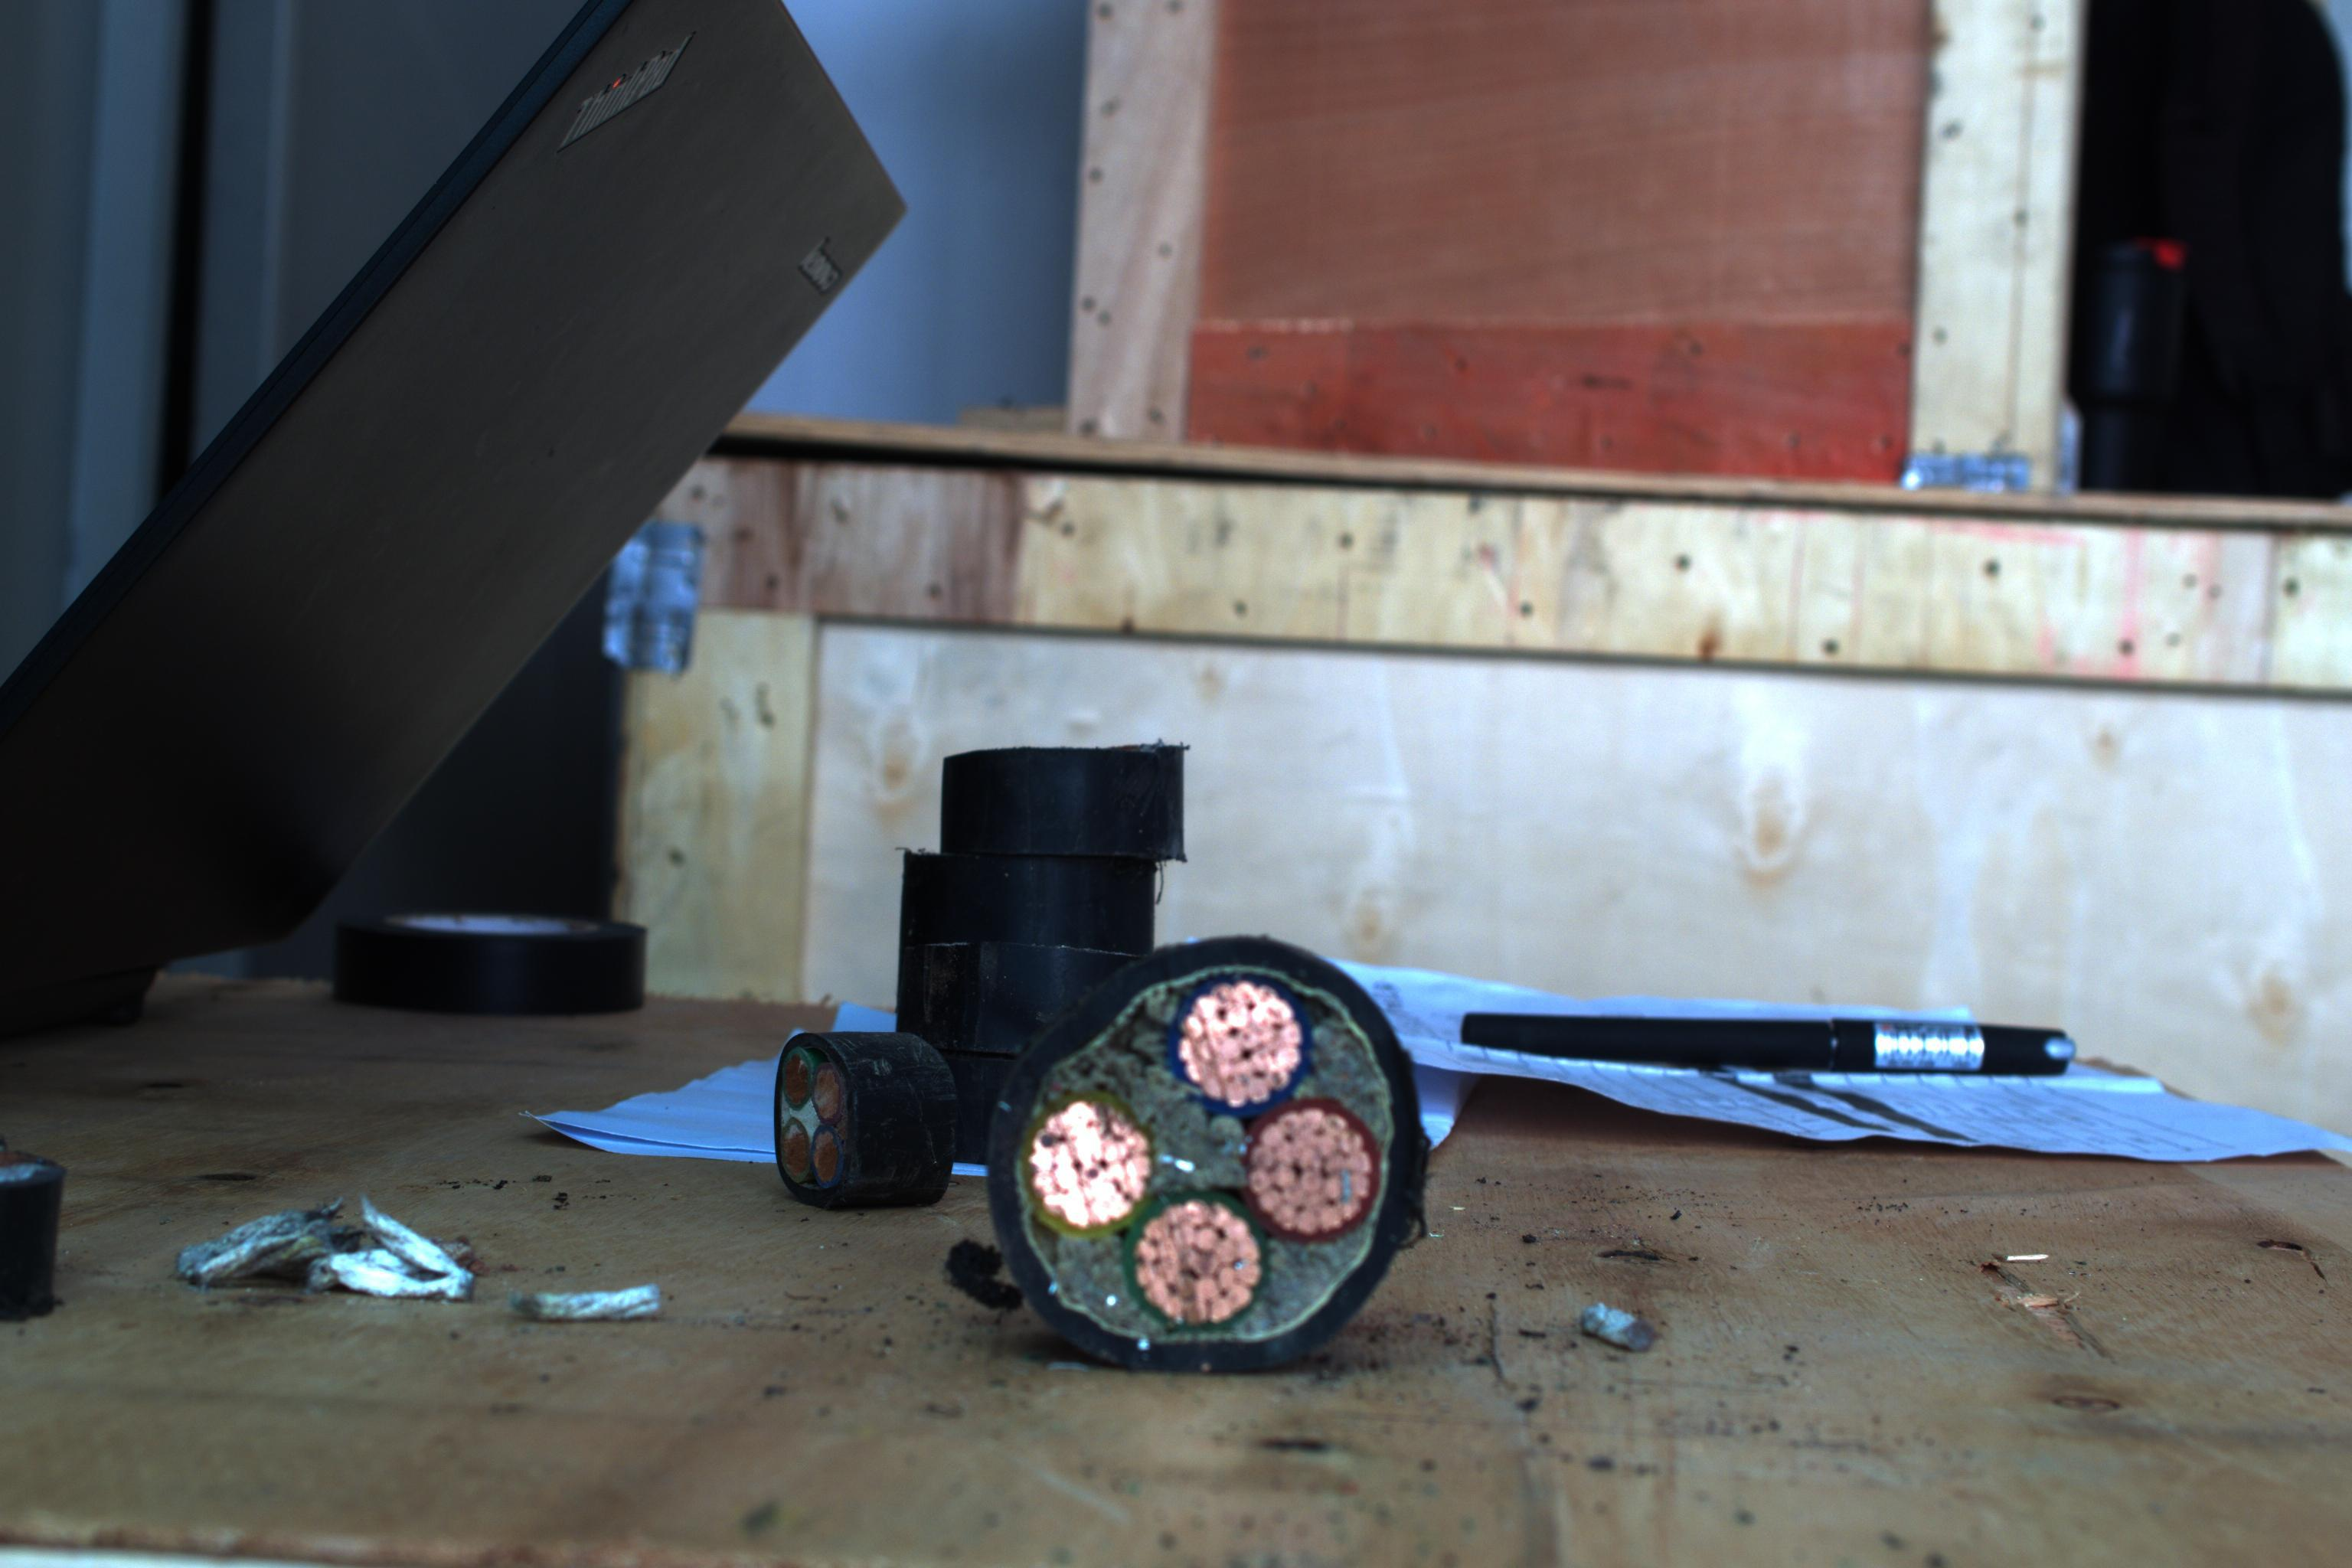YJV_0.6_1kV_4x120: (973, 922, 1419, 1365)
